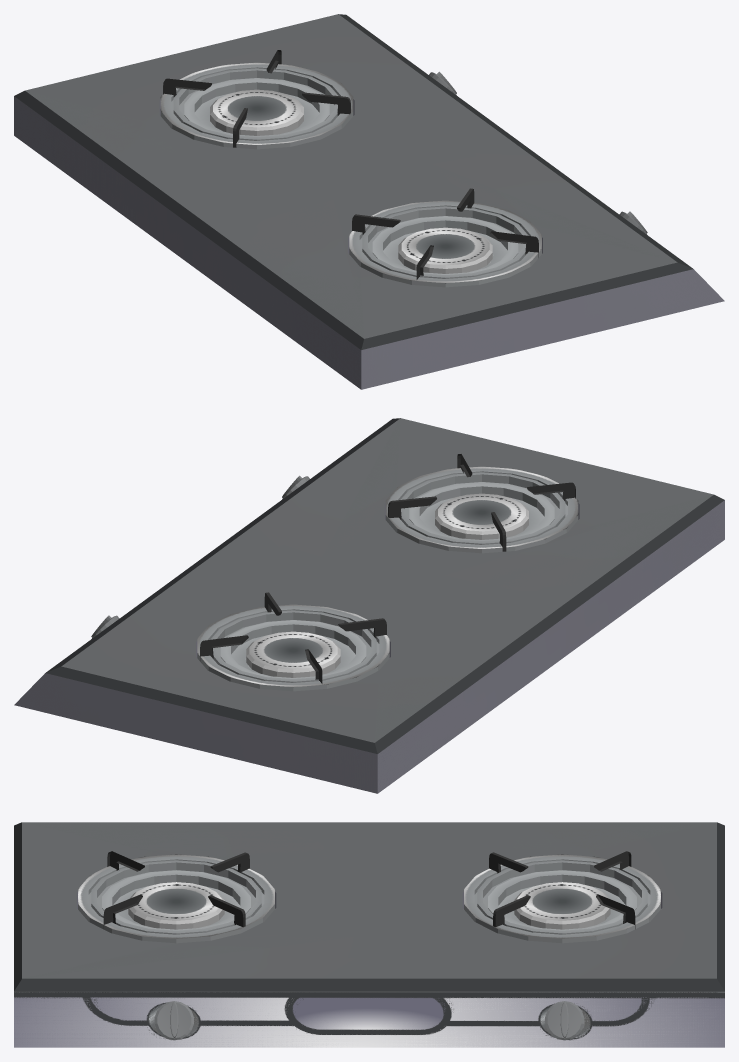
Rendered from kompor.fbx.
3 renders of one model, top to bottom at view 1: azimuth 30°, elevation 25°; view 2: azimuth 150°, elevation 25°; view 3: azimuth 270°, elevation 25°, orthographic. The views are drawn at different scales.
Parts seen in each view (by area): view 1: kompor; view 2: kompor; view 3: kompor.
Boxes of the visible parts, <box> form: kompor: <box>14,14,724,389</box>; kompor: <box>14,418,724,793</box>; kompor: <box>14,822,724,1047</box>.
Bounding box in the file's own units: 68.99 × 11.84 × 114.
Materials: 1 (1 with a texture image).
